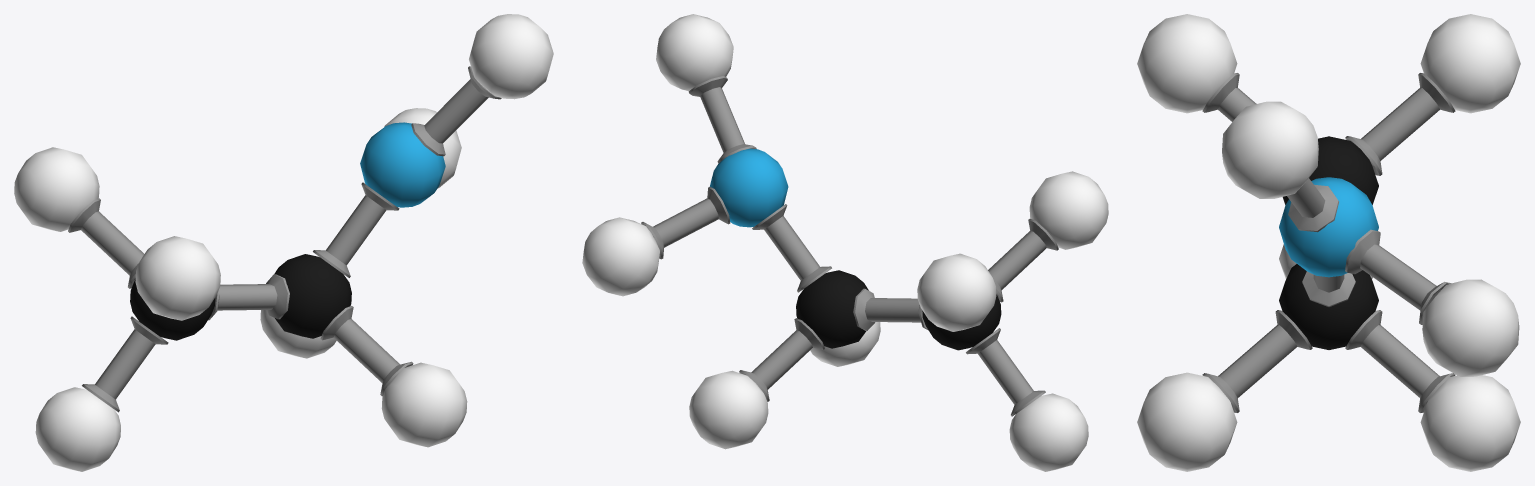
File: SM_Ethylamin_Molecule_LOD0.FBX
3 renders of one model, left to right at view 1: azimuth 30°, elevation 25°; view 2: azimuth 150°, elevation 25°; view 3: azimuth 270°, elevation 25°, orthographic. The views are drawn at different scales.
Visible parts, largest first — view 1: SM_Ethylamin_Molecule; view 2: SM_Ethylamin_Molecule; view 3: SM_Ethylamin_Molecule.
Boxes of the visible parts, x1,y1,x2,y2 form: SM_Ethylamin_Molecule: (14,14,553,471); SM_Ethylamin_Molecule: (582,14,1108,471); SM_Ethylamin_Molecule: (1137,14,1520,471).
Size of the model in its own units: 0.1941 by 0.1421 by 0.1148.
Materials: 1 (1 with a texture image).
